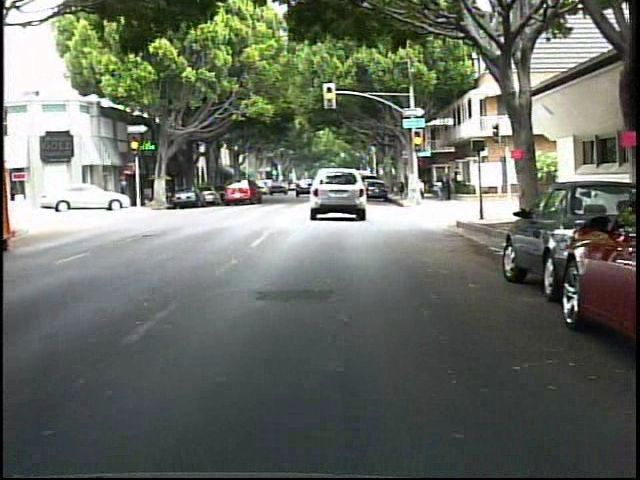person: (406, 171, 428, 210), (442, 168, 455, 204), (450, 164, 464, 196), (434, 171, 447, 202)
